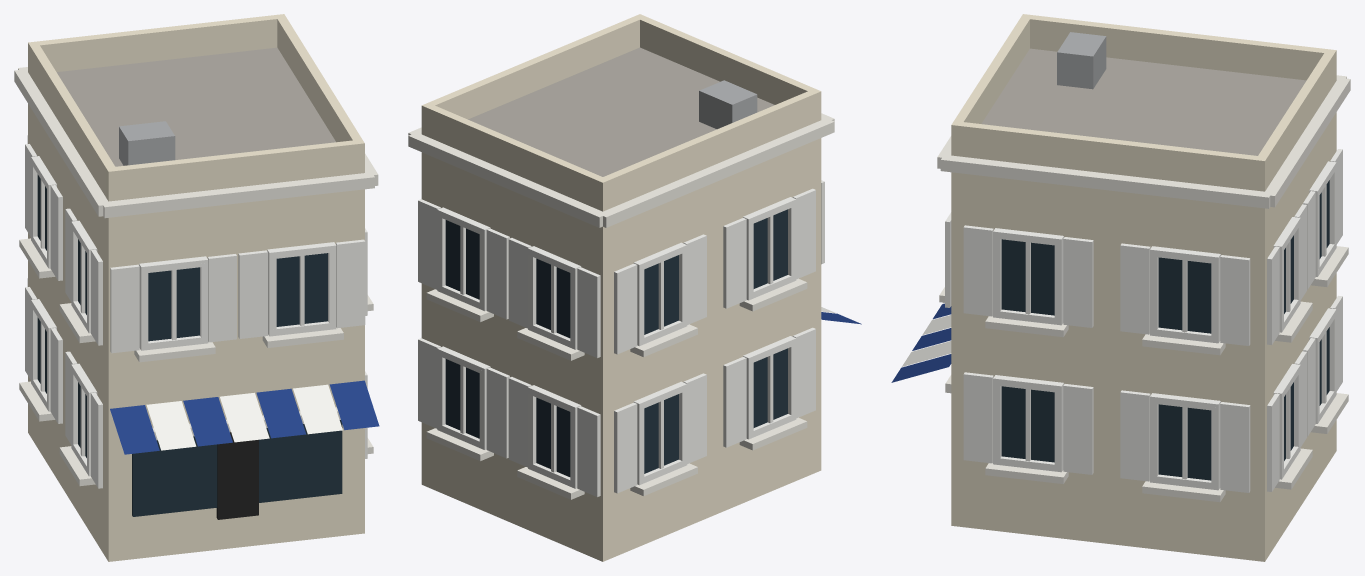
The picture shows the model from 3 angles, left to right: view 1: azimuth 30°, elevation 25°; view 2: azimuth 150°, elevation 25°; view 3: azimuth 270°, elevation 25°; orthographic projection. The views are drawn at different scales.
Parts seen in each view (by area): view 1: b11080; view 2: b11080; view 3: b11080.
Part boxes in pixels (left/top/right/bottom): b11080: left=14, top=14, right=379, bottom=561; b11080: left=408, top=14, right=861, bottom=561; b11080: left=891, top=14, right=1350, bottom=561.
Bounding box in the file's own units: 3031 × 3576 × 3683.
